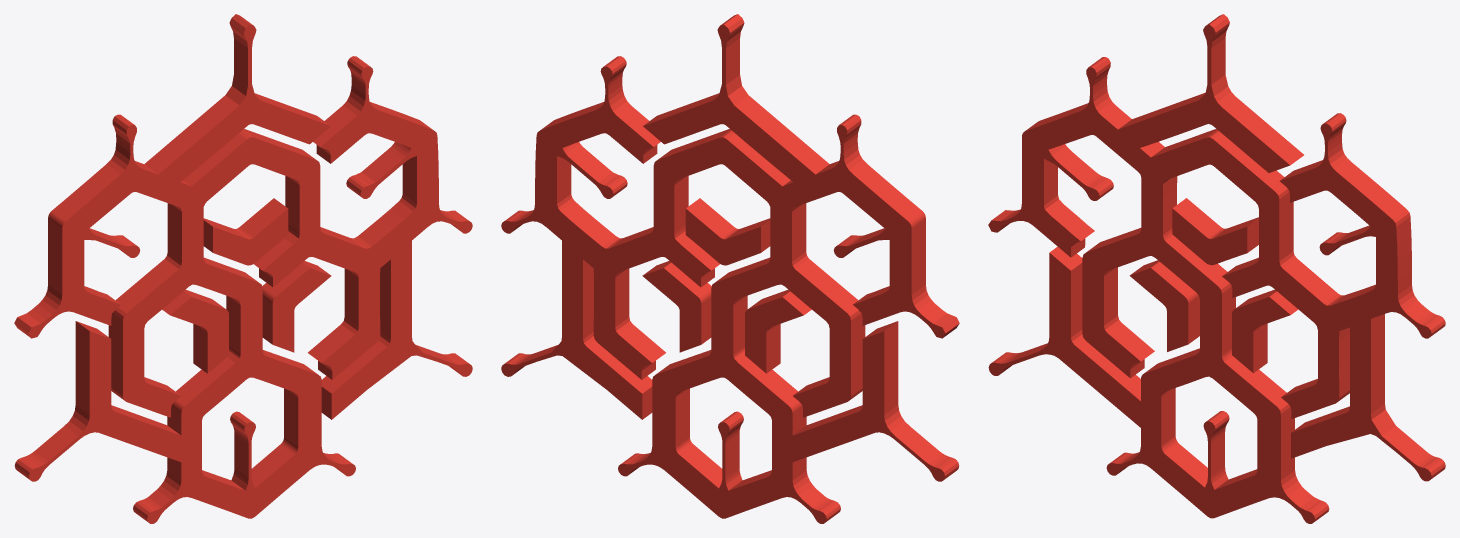
The model's file is GRAF_3_16.glb.
3 views of the same model, side by side, from view 1: azimuth 30°, elevation 25°; view 2: azimuth 150°, elevation 25°; view 3: azimuth 330°, elevation 25° (orthographic).
Parts seen in each view (by area): view 1: Curve.005; view 2: Curve.005; view 3: Curve.005.
Part boxes in pixels (x1=…): Curve.005: x1=14, y1=14, x2=472, y2=523; Curve.005: x1=501, y1=14, x2=959, y2=523; Curve.005: x1=988, y1=14, x2=1445, y2=523.
Bounding box in the file's own units: 3.45 × 3.67 × 0.1913.
